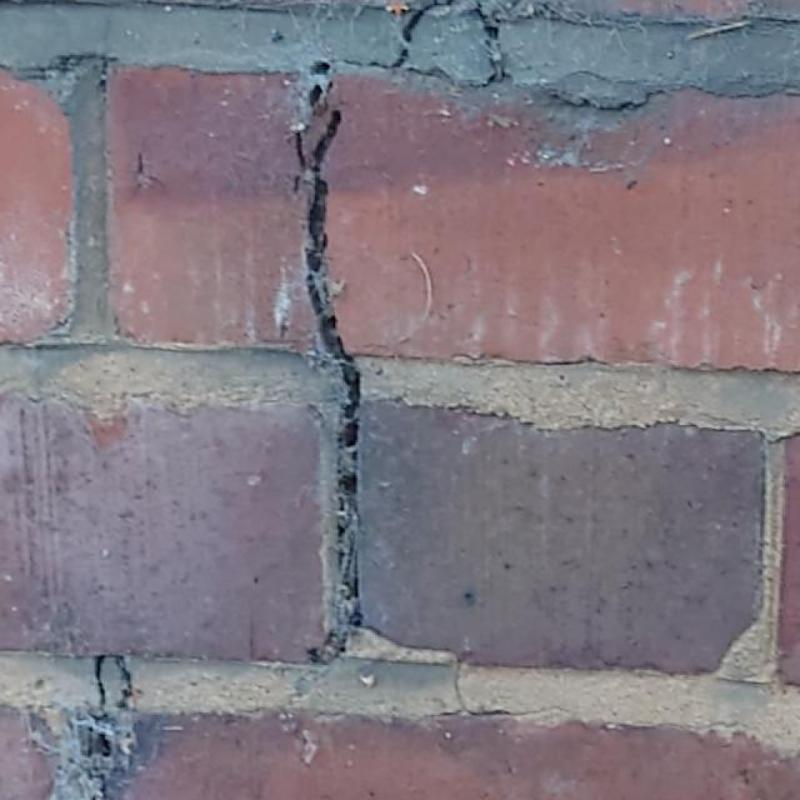crack: (305, 109, 361, 652), (358, 622, 570, 716), (395, 0, 453, 66), (86, 654, 112, 799), (471, 8, 510, 90), (311, 60, 440, 79), (290, 131, 308, 194), (116, 654, 132, 710), (322, 81, 335, 110), (310, 84, 322, 106)
